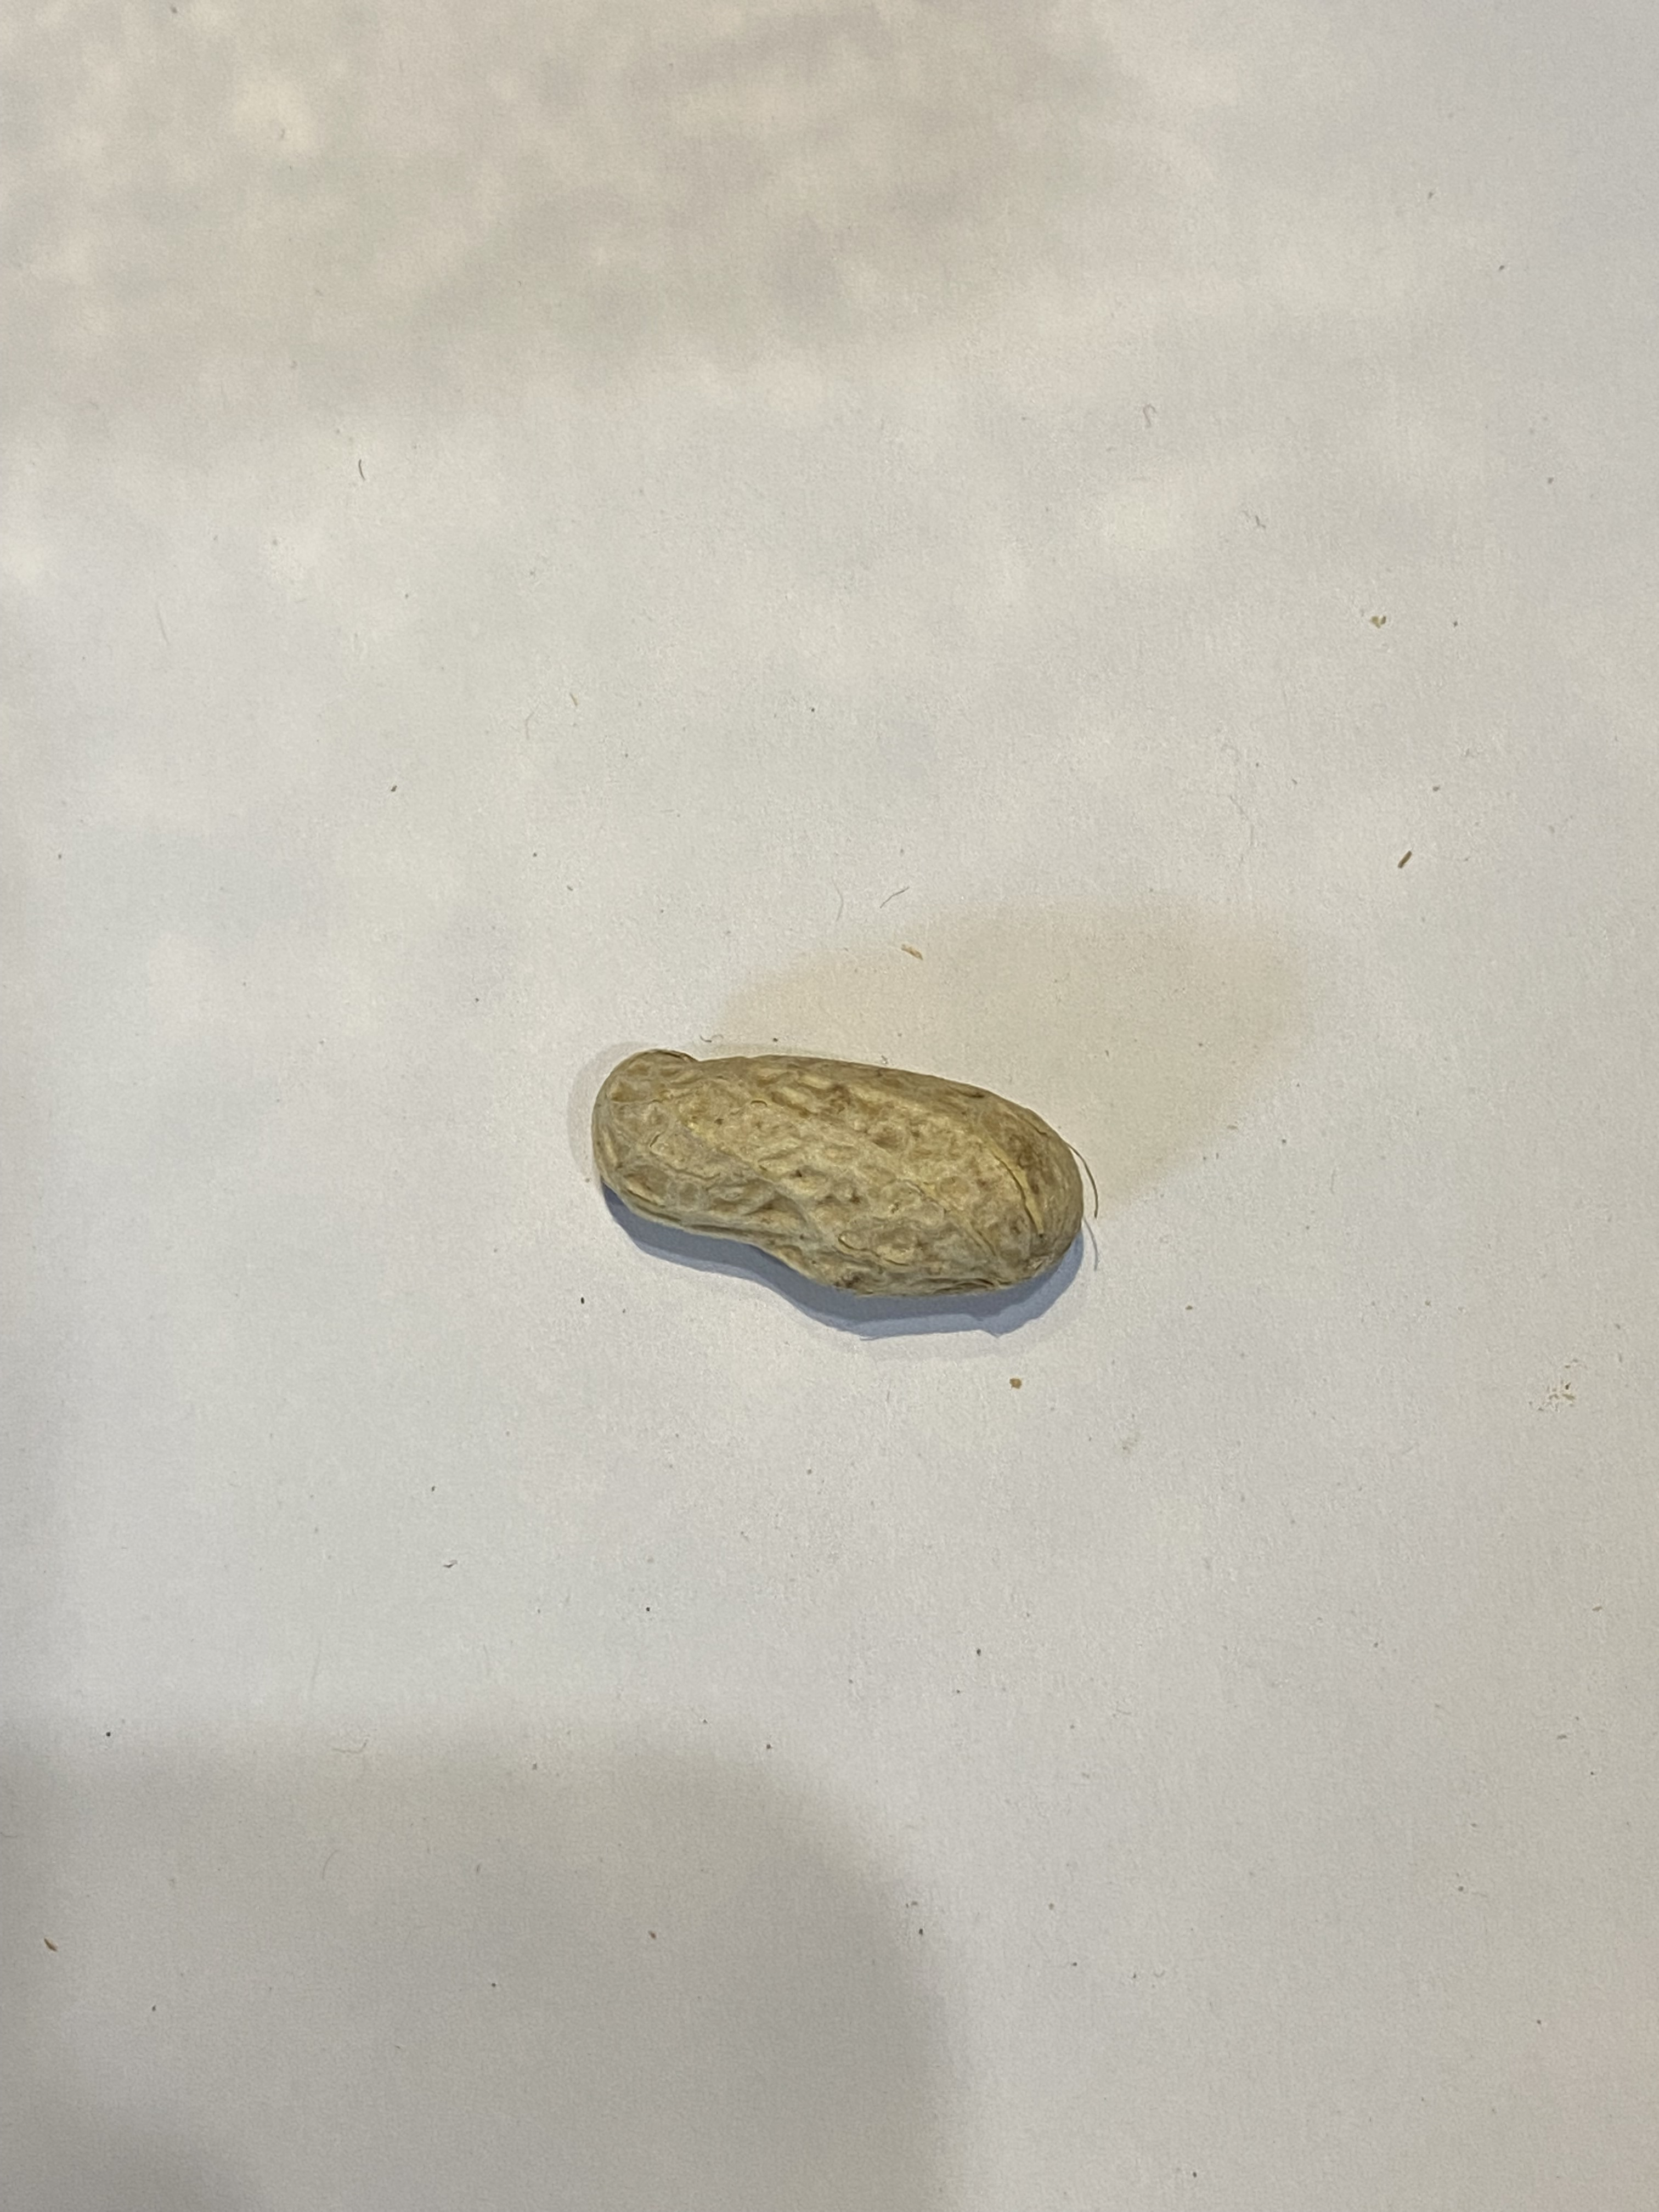kacang2: (580, 1038, 1108, 1315)
